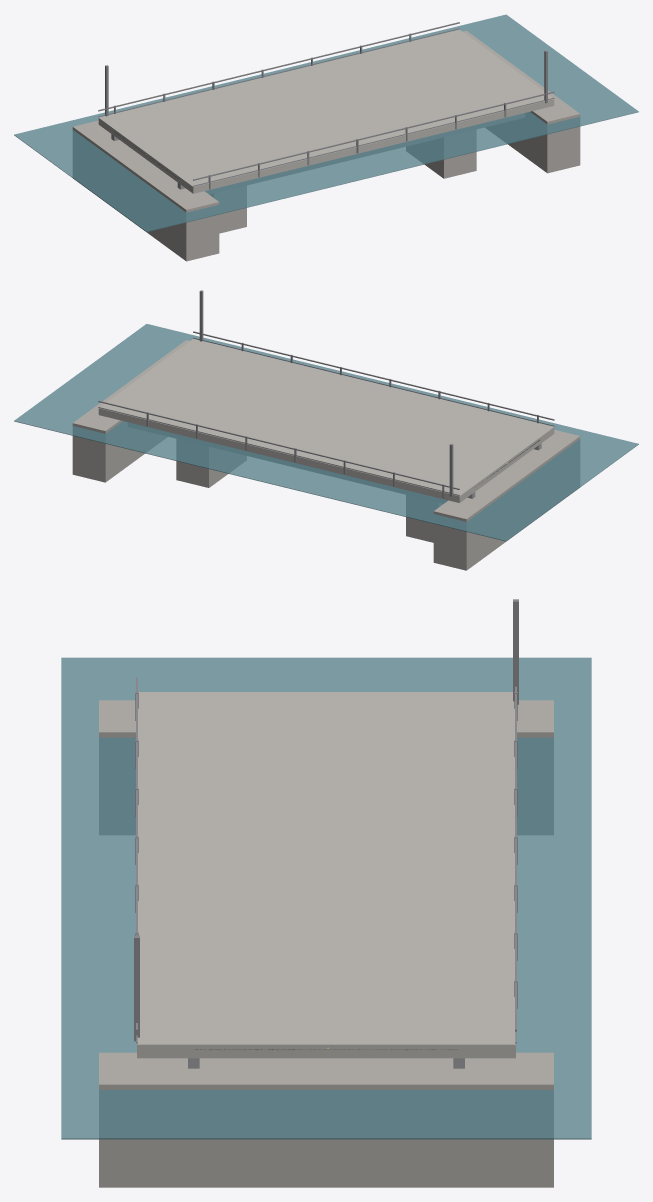
The model's file is bridge_section.glb.
The picture shows the model from 3 angles, top to bottom: view 1: azimuth 30°, elevation 25°; view 2: azimuth 150°, elevation 25°; view 3: azimuth 270°, elevation 25°; orthographic projection. The views are drawn at different scales.
Visible parts, largest first — view 1: deck, water, abut_l, abut_r, pier_r, girder_back, pier_l, rail_top_r, rail_top_l, rail_mid_l, rail_mid_r; view 2: deck, water, abut_l, abut_r, pier_r, girder_main, pier_l, rail_top_r, rail_top_l, rail_mid_l, rail_mid_r; view 3: deck, water, abut_r, abut_l.
Part boxes in pixels (<box>): deck: <box>98,29,554,193</box>; water: <box>14,14,638,232</box>; abut_l: <box>72,120,219,261</box>; abut_r: <box>463,30,580,173</box>; pier_r: <box>406,130,476,178</box>; girder_back: <box>177,113,524,194</box>; pier_l: <box>210,186,246,233</box>; rail_top_r: <box>193,91,554,180</box>; rail_top_l: <box>98,22,459,111</box>; rail_mid_l: <box>98,28,459,116</box>; rail_mid_r: <box>193,97,554,186</box>; deck: <box>98,339,554,502</box>; water: <box>14,324,638,541</box>; abut_l: <box>433,429,580,570</box>; abut_r: <box>72,340,189,482</box>; pier_r: <box>176,439,246,487</box>; girder_main: <box>128,422,475,503</box>; pier_l: <box>406,495,442,542</box>; rail_top_r: <box>193,331,554,420</box>; rail_top_l: <box>98,400,459,489</box>; rail_mid_l: <box>98,407,459,495</box>; rail_mid_r: <box>193,337,554,426</box>; deck: <box>137,692,515,1058</box>; water: <box>61,657,591,1139</box>; abut_r: <box>99,1052,553,1187</box>; abut_l: <box>99,700,553,834</box>.
Bounding box in the file's own units: 30 × 7.6 × 14.
